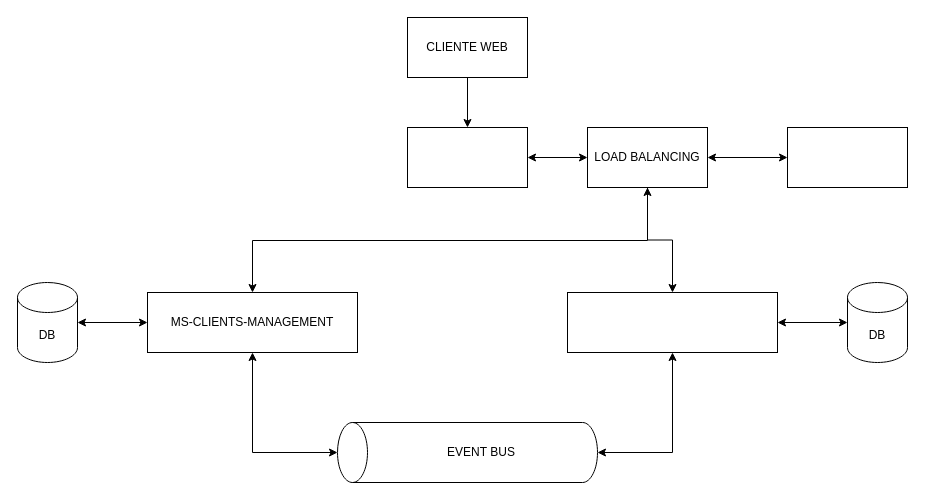
The diagram is 925 pixels wide and 500 high, and some of its shapes have lost their labels. The centre of each missing label's shape, as x and y in pixels:
API GATEWAY: (467,157)
MS-TRANSACTIONS: (672,322)
REGISTRY AND DISCOVERY: (847,157)
